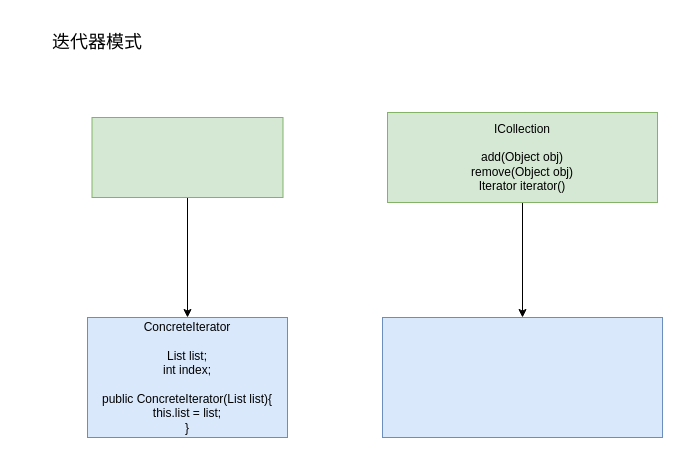
This 680x455 diagram has some shape labels left out. The centre of each missing label's shape, as x and y in pixels:
"Iterator next() hasNext() remove()" goes at (x=187, y=157).
"MyCollection Iterator iterator(){ return new ConcreteIterator(list) }" goes at (x=522, y=377).
